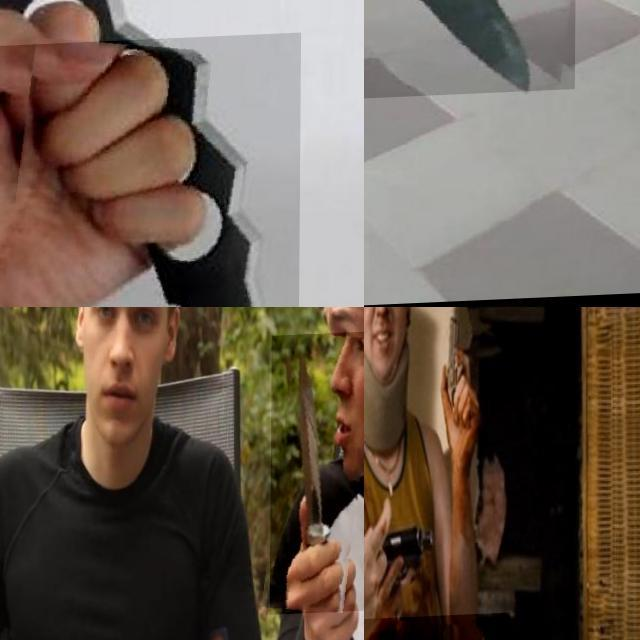-: (0, 36, 301, 307), (270, 335, 364, 617), (364, 0, 576, 101)
